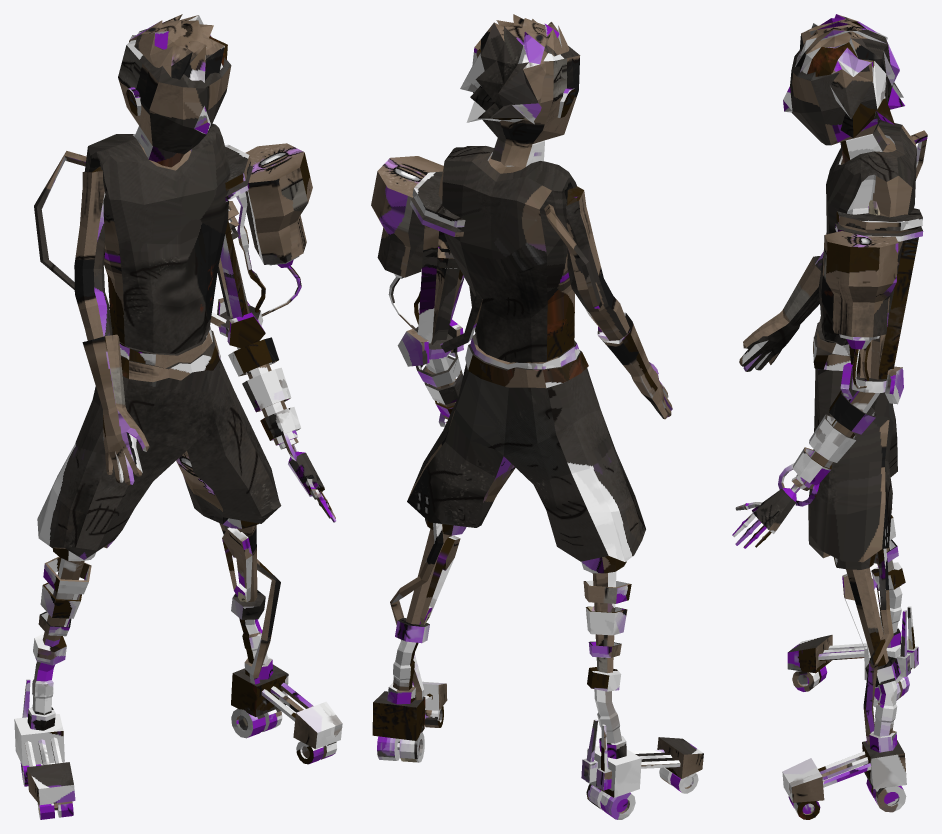
File: CyborgFINALAnimation_000033.obj
3 renders of one model, left to right at view 1: azimuth 30°, elevation 25°; view 2: azimuth 150°, elevation 25°; view 3: azimuth 270°, elevation 25°, orthographic. The views are drawn at different scales.
Visible parts, largest first — view 1: CyborgMesh_Cube.002; view 2: CyborgMesh_Cube.002; view 3: CyborgMesh_Cube.002.
Boxes of the visible parts, <box> form: CyborgMesh_Cube.002: <box>14,14,342,819</box>; CyborgMesh_Cube.002: <box>371,14,703,819</box>; CyborgMesh_Cube.002: <box>732,14,927,819</box>.
Bounding box in the file's own units: 3.99 × 9.63 × 2.32.
